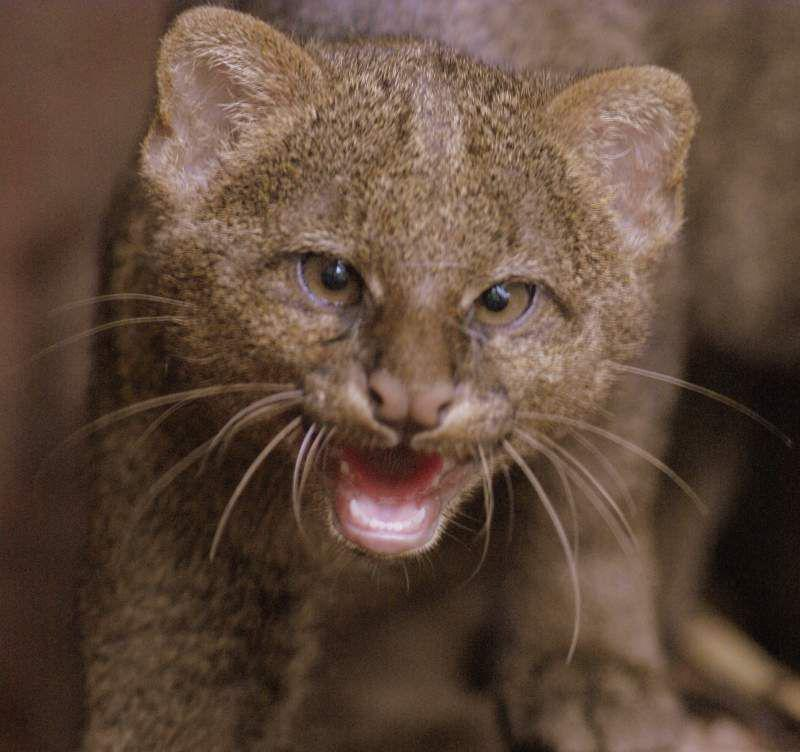Jaguarundi: (115, 7, 704, 677)
